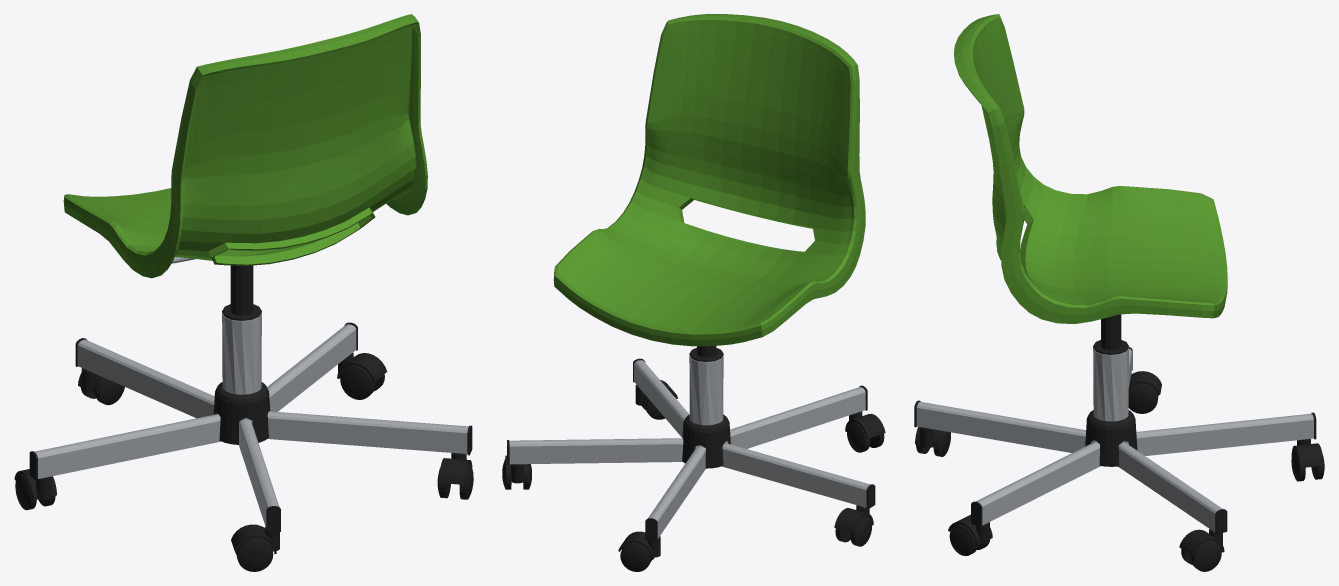
3 renders of one model, left to right at view 1: azimuth 30°, elevation 25°; view 2: azimuth 150°, elevation 25°; view 3: azimuth 270°, elevation 25°, orthographic. The views are drawn at different scales.
Visible parts, largest first — view 1: Mesh2 Group2 SNILLE_IKEA1 Model, Mesh8 Group6 SNILLE_IKEA1 Model, Mesh7 Group5 SNILLE_IKEA1 Model, Mesh1 Group1 SNILLE_IKEA1 Model, Mesh3 Group3 SNILLE_IKEA1 Model, Mesh20 ROULETTE4 SNILLE_IKEA1 Model, Mesh16 ROULETTE3 SNILLE_IKEA1 Model, Mesh12 ROULETTE2 SNILLE_IKEA1 Model, Mesh15 ROULETTE3 SNILLE_IKEA1 Model, Mesh18 ROULETTE4 SNILLE_IKEA1 Model, Mesh9 ROULETTE1 SNILLE_IKEA1 Model; view 2: Mesh2 Group2 SNILLE_IKEA1 Model, Mesh8 Group6 SNILLE_IKEA1 Model, Mesh7 Group5 SNILLE_IKEA1 Model, Mesh1 Group1 SNILLE_IKEA1 Model, Mesh23 ROULETTE5 SNILLE_IKEA1 Model, Mesh9 ROULETTE1 SNILLE_IKEA1 Model, Mesh18 ROULETTE4 SNILLE_IKEA1 Model, Mesh21 ROULETTE5 SNILLE_IKEA1 Model, Mesh19 ROULETTE4 SNILLE_IKEA1 Model; view 3: Mesh2 Group2 SNILLE_IKEA1 Model, Mesh8 Group6 SNILLE_IKEA1 Model, Mesh7 Group5 SNILLE_IKEA1 Model, Mesh1 Group1 SNILLE_IKEA1 Model, Mesh3 Group3 SNILLE_IKEA1 Model, Mesh10 ROULETTE1 SNILLE_IKEA1 Model, Mesh17 ROULETTE3 SNILLE_IKEA1 Model, Mesh21 ROULETTE5 SNILLE_IKEA1 Model, Mesh14 ROULETTE2 SNILLE_IKEA1 Model, Mesh15 ROULETTE3 SNILLE_IKEA1 Model, Mesh12 ROULETTE2 SNILLE_IKEA1 Model.
Part boxes in pixels (x1,y1,x2,y2): Mesh2 Group2 SNILLE_IKEA1 Model: [63, 14, 427, 278]; Mesh8 Group6 SNILLE_IKEA1 Model: [29, 322, 472, 532]; Mesh7 Group5 SNILLE_IKEA1 Model: [222, 313, 261, 394]; Mesh1 Group1 SNILLE_IKEA1 Model: [213, 382, 270, 444]; Mesh3 Group3 SNILLE_IKEA1 Model: [222, 265, 261, 320]; Mesh20 ROULETTE4 SNILLE_IKEA1 Model: [236, 537, 273, 571]; Mesh16 ROULETTE3 SNILLE_IKEA1 Model: [340, 365, 375, 399]; Mesh12 ROULETTE2 SNILLE_IKEA1 Model: [439, 453, 472, 484]; Mesh15 ROULETTE3 SNILLE_IKEA1 Model: [337, 353, 387, 381]; Mesh18 ROULETTE4 SNILLE_IKEA1 Model: [231, 524, 279, 553]; Mesh9 ROULETTE1 SNILLE_IKEA1 Model: [14, 469, 56, 500]; Mesh2 Group2 SNILLE_IKEA1 Model: [553, 14, 865, 346]; Mesh8 Group6 SNILLE_IKEA1 Model: [507, 358, 875, 541]; Mesh7 Group5 SNILLE_IKEA1 Model: [689, 355, 723, 425]; Mesh1 Group1 SNILLE_IKEA1 Model: [682, 414, 730, 468]; Mesh23 ROULETTE5 SNILLE_IKEA1 Model: [620, 542, 651, 571]; Mesh9 ROULETTE1 SNILLE_IKEA1 Model: [834, 505, 873, 532]; Mesh18 ROULETTE4 SNILLE_IKEA1 Model: [845, 411, 885, 438]; Mesh21 ROULETTE5 SNILLE_IKEA1 Model: [618, 531, 660, 559]; Mesh19 ROULETTE4 SNILLE_IKEA1 Model: [847, 422, 870, 452]; Mesh2 Group2 SNILLE_IKEA1 Model: [954, 14, 1227, 323]; Mesh8 Group6 SNILLE_IKEA1 Model: [914, 347, 1316, 534]; Mesh7 Group5 SNILLE_IKEA1 Model: [1093, 348, 1128, 421]; Mesh1 Group1 SNILLE_IKEA1 Model: [1085, 410, 1137, 466]; Mesh3 Group3 SNILLE_IKEA1 Model: [1093, 314, 1128, 354]; Mesh10 ROULETTE1 SNILLE_IKEA1 Model: [1128, 383, 1158, 413]; Mesh17 ROULETTE3 SNILLE_IKEA1 Model: [1191, 540, 1221, 571]; Mesh21 ROULETTE5 SNILLE_IKEA1 Model: [1291, 439, 1324, 467]; Mesh14 ROULETTE2 SNILLE_IKEA1 Model: [949, 524, 977, 555]; Mesh15 ROULETTE3 SNILLE_IKEA1 Model: [1179, 529, 1224, 555]; Mesh12 ROULETTE2 SNILLE_IKEA1 Model: [948, 514, 992, 545].
Size of the model in its own units: 0.5923 by 0.702 by 0.5919.
